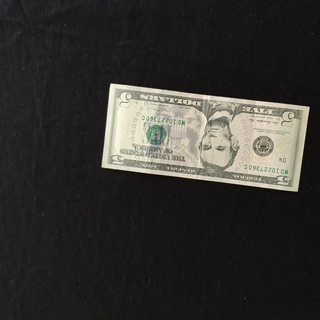5USDFront: (100, 83, 310, 192)
